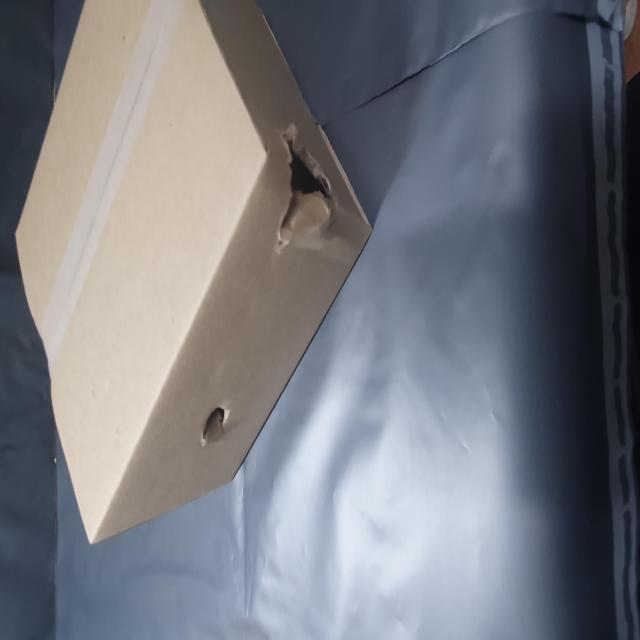damaged: (216, 486, 293, 610), (105, 344, 138, 416)
